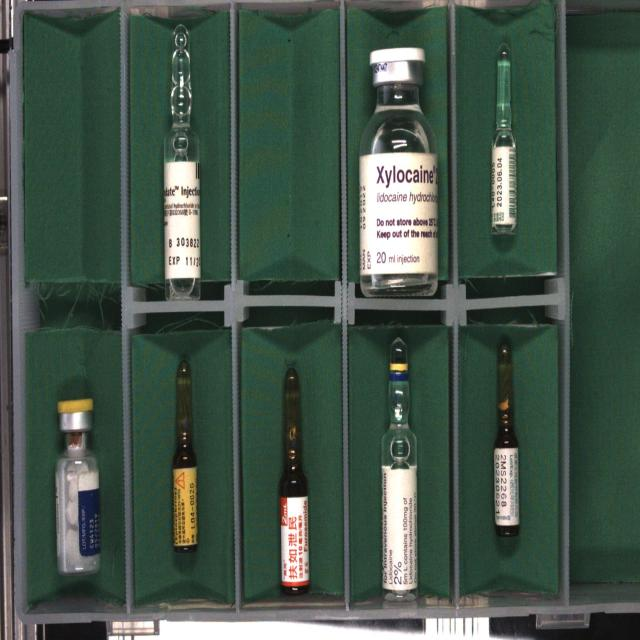Vials: (359, 47, 438, 297), (55, 397, 101, 575)
